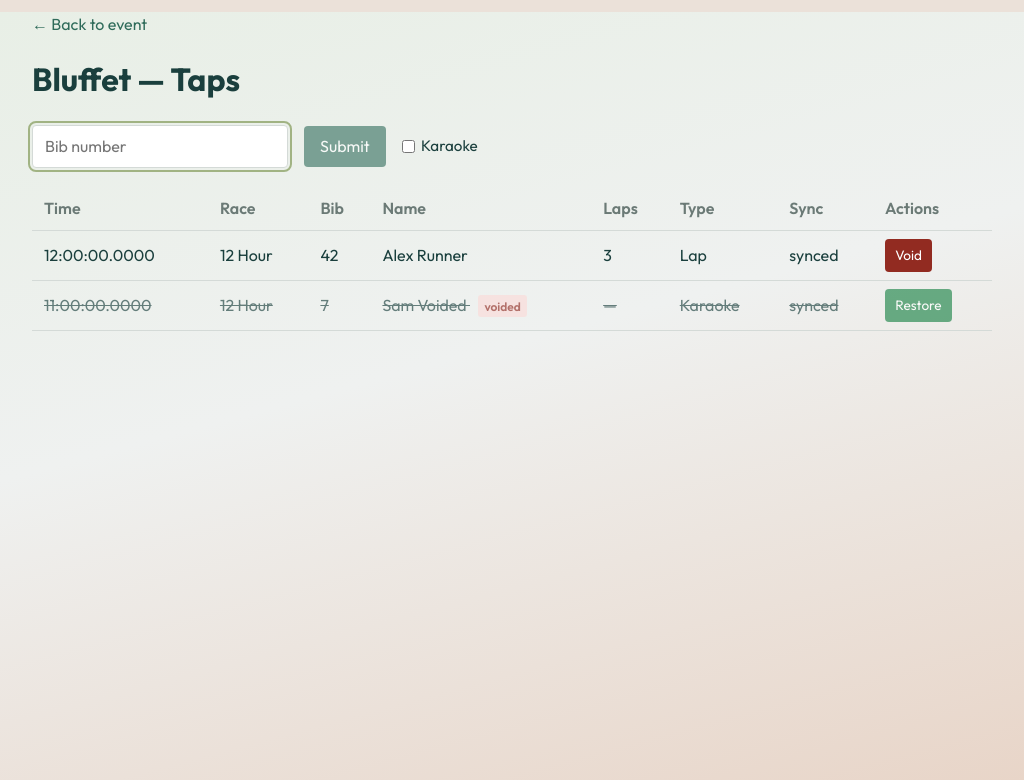
Test: EventTaps.vue › shows not-found error and does not create when zero exact matches
Type "99" into the field with test id "inline-bib-input". click: (160, 147)
box: [32,125,288,168]
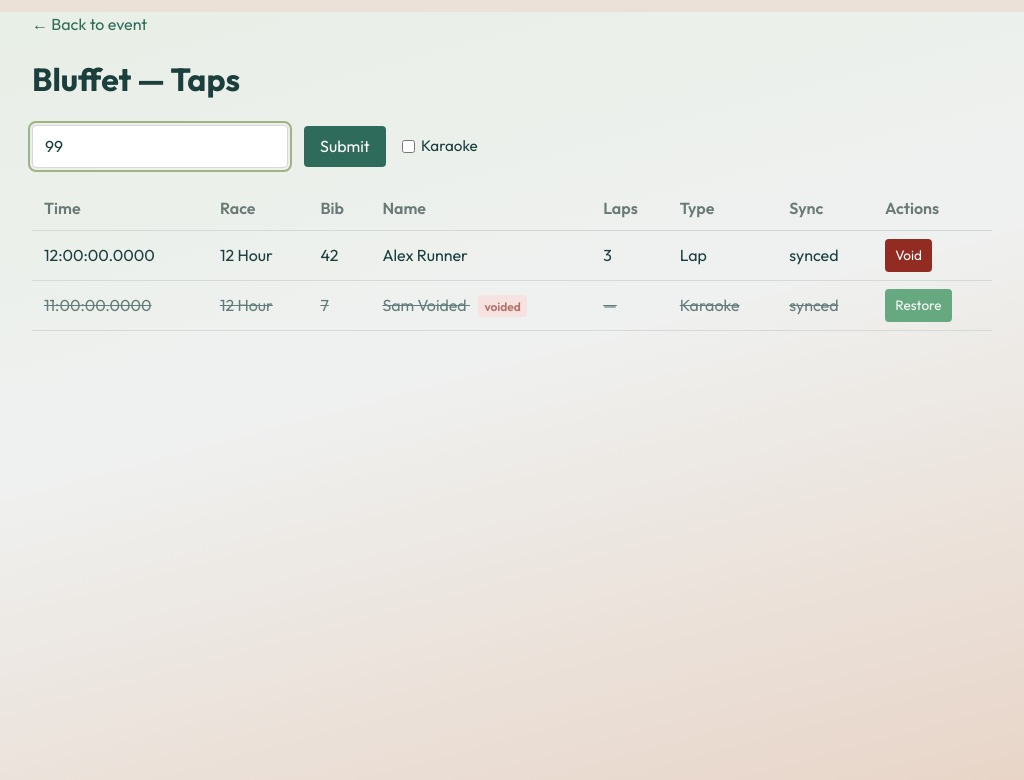
Press Enter in the field with test id "inline-bib-input", box [32,125,288,168]
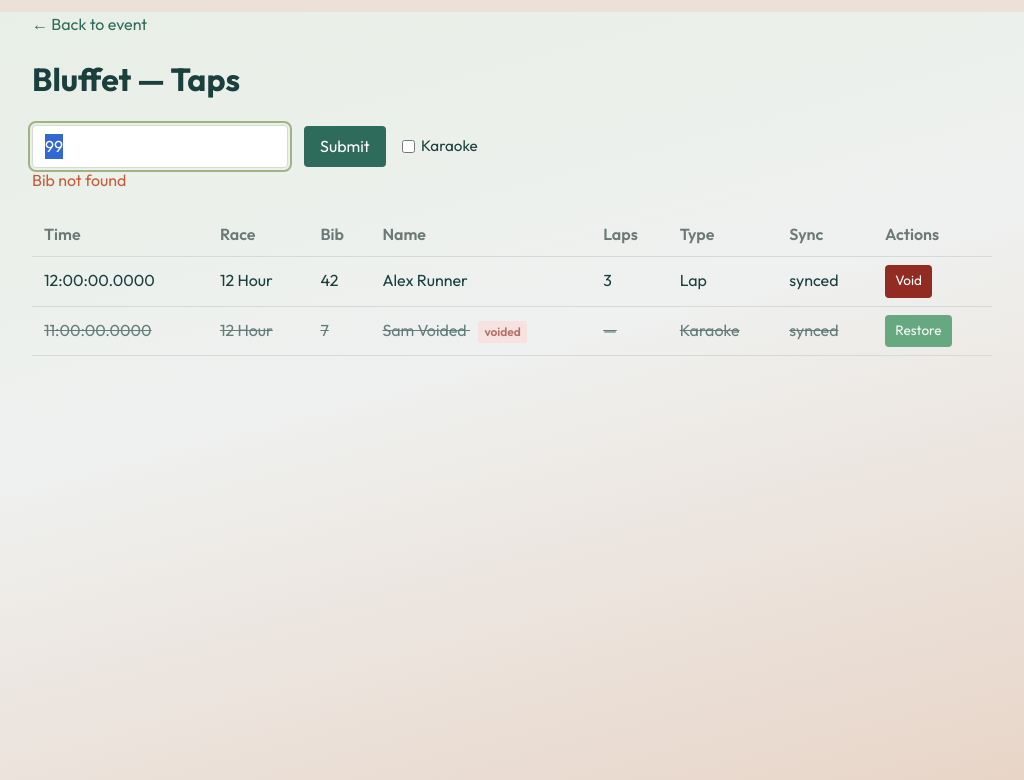
expect the message "Bib not found" is shown: met, box [32,170,126,190]
